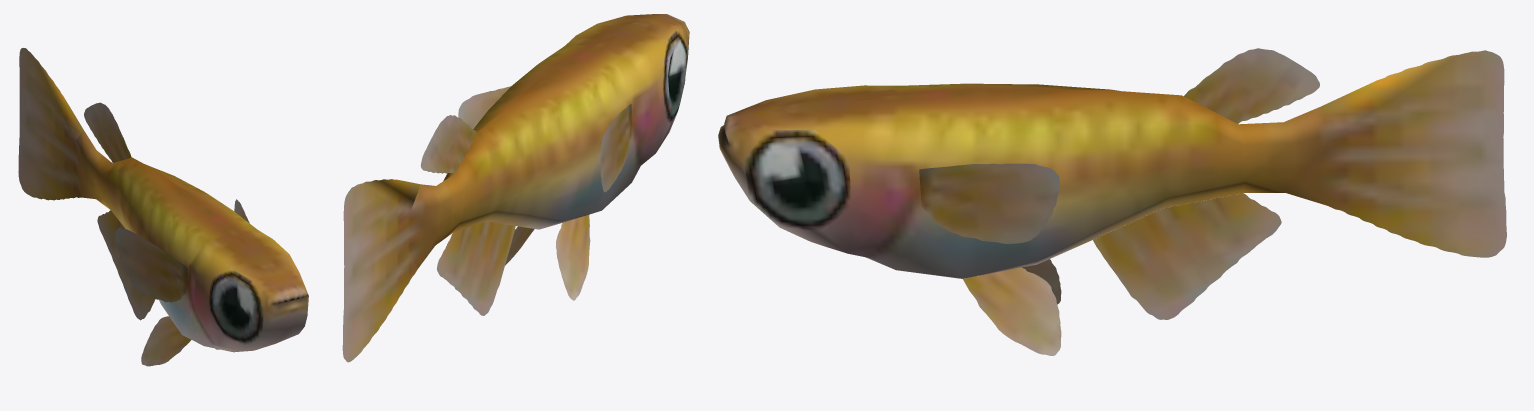
File: killifish.glb
The picture shows the model from 3 angles, left to right: view 1: azimuth 30°, elevation 25°; view 2: azimuth 150°, elevation 25°; view 3: azimuth 270°, elevation 25°; orthographic projection. The views are drawn at different scales.
Bounding box in the file's own units: 0.7015 × 1.29 × 2.67.
1 material, 1 textured.
